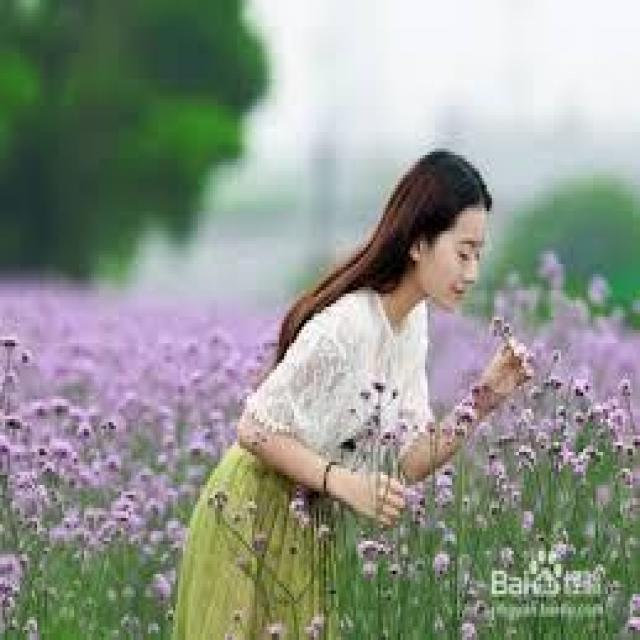organic waste: (20, 337, 160, 558), (523, 394, 619, 516), (487, 305, 511, 342)
